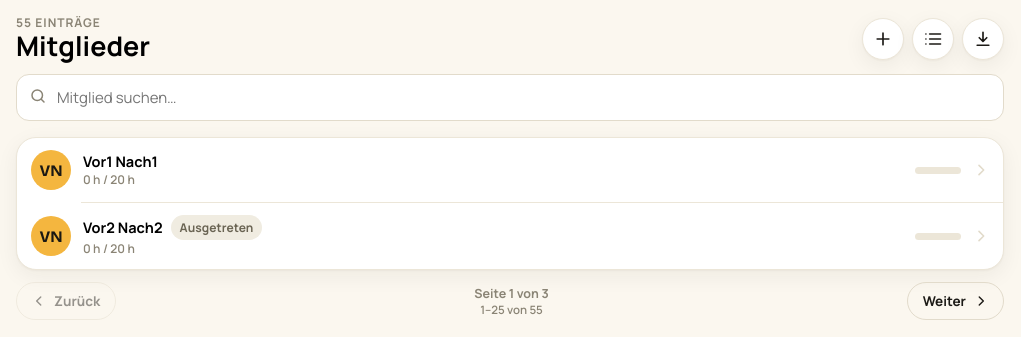
AdminMembers › pages through the list
Expected: the text "Seite 1 von 3" is shown, [474,285,549,302]
Expected: the button "Zurück" is disabled, [16,282,116,320]
Click the button "Weiter". click: (955, 301)
box: [907,282,1004,320]
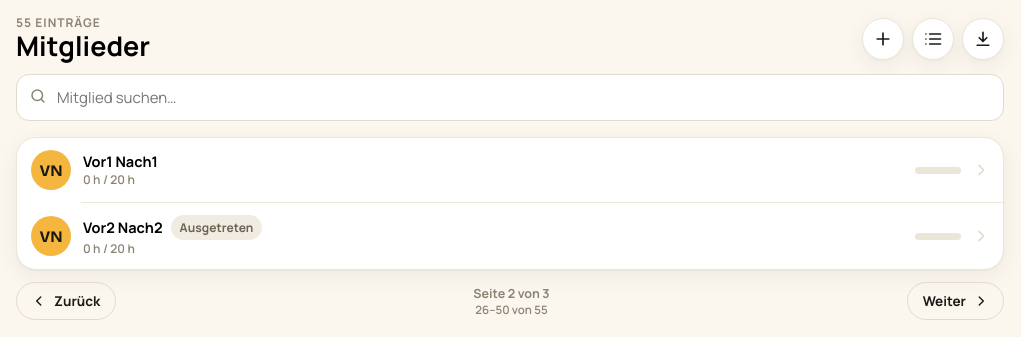
Expected: the text "Seite 2 von 3" is shown, [473,285,550,302]
